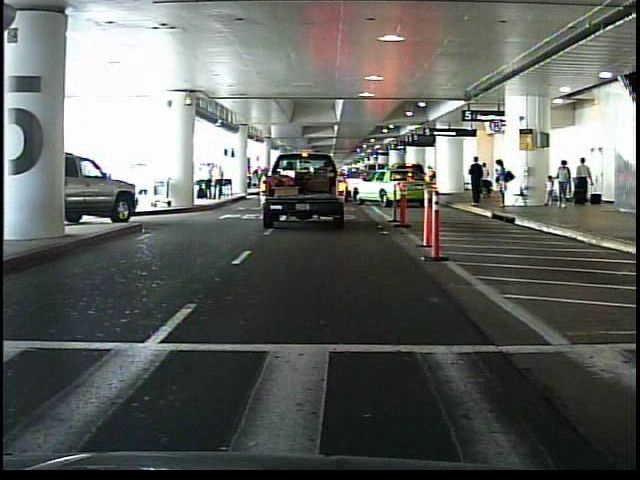person: (494, 156, 515, 211), (468, 154, 487, 206), (482, 158, 495, 205)
